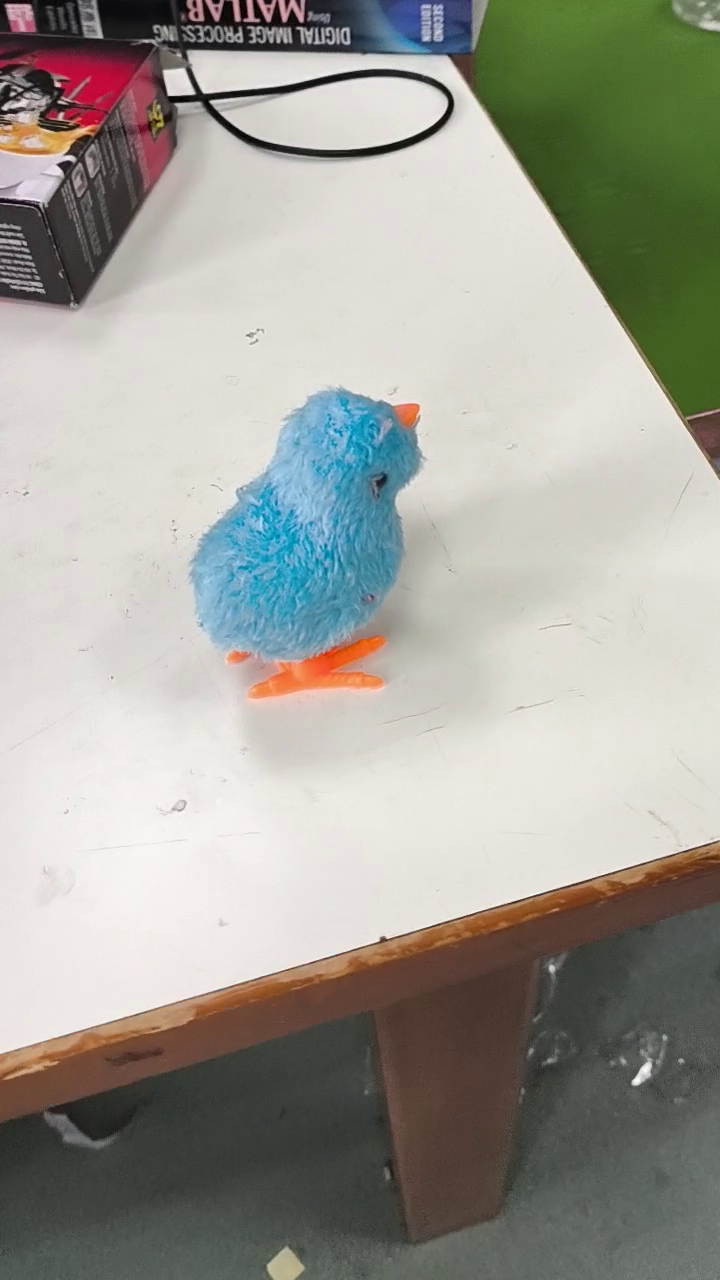blue chicken: (183, 380, 433, 707)
